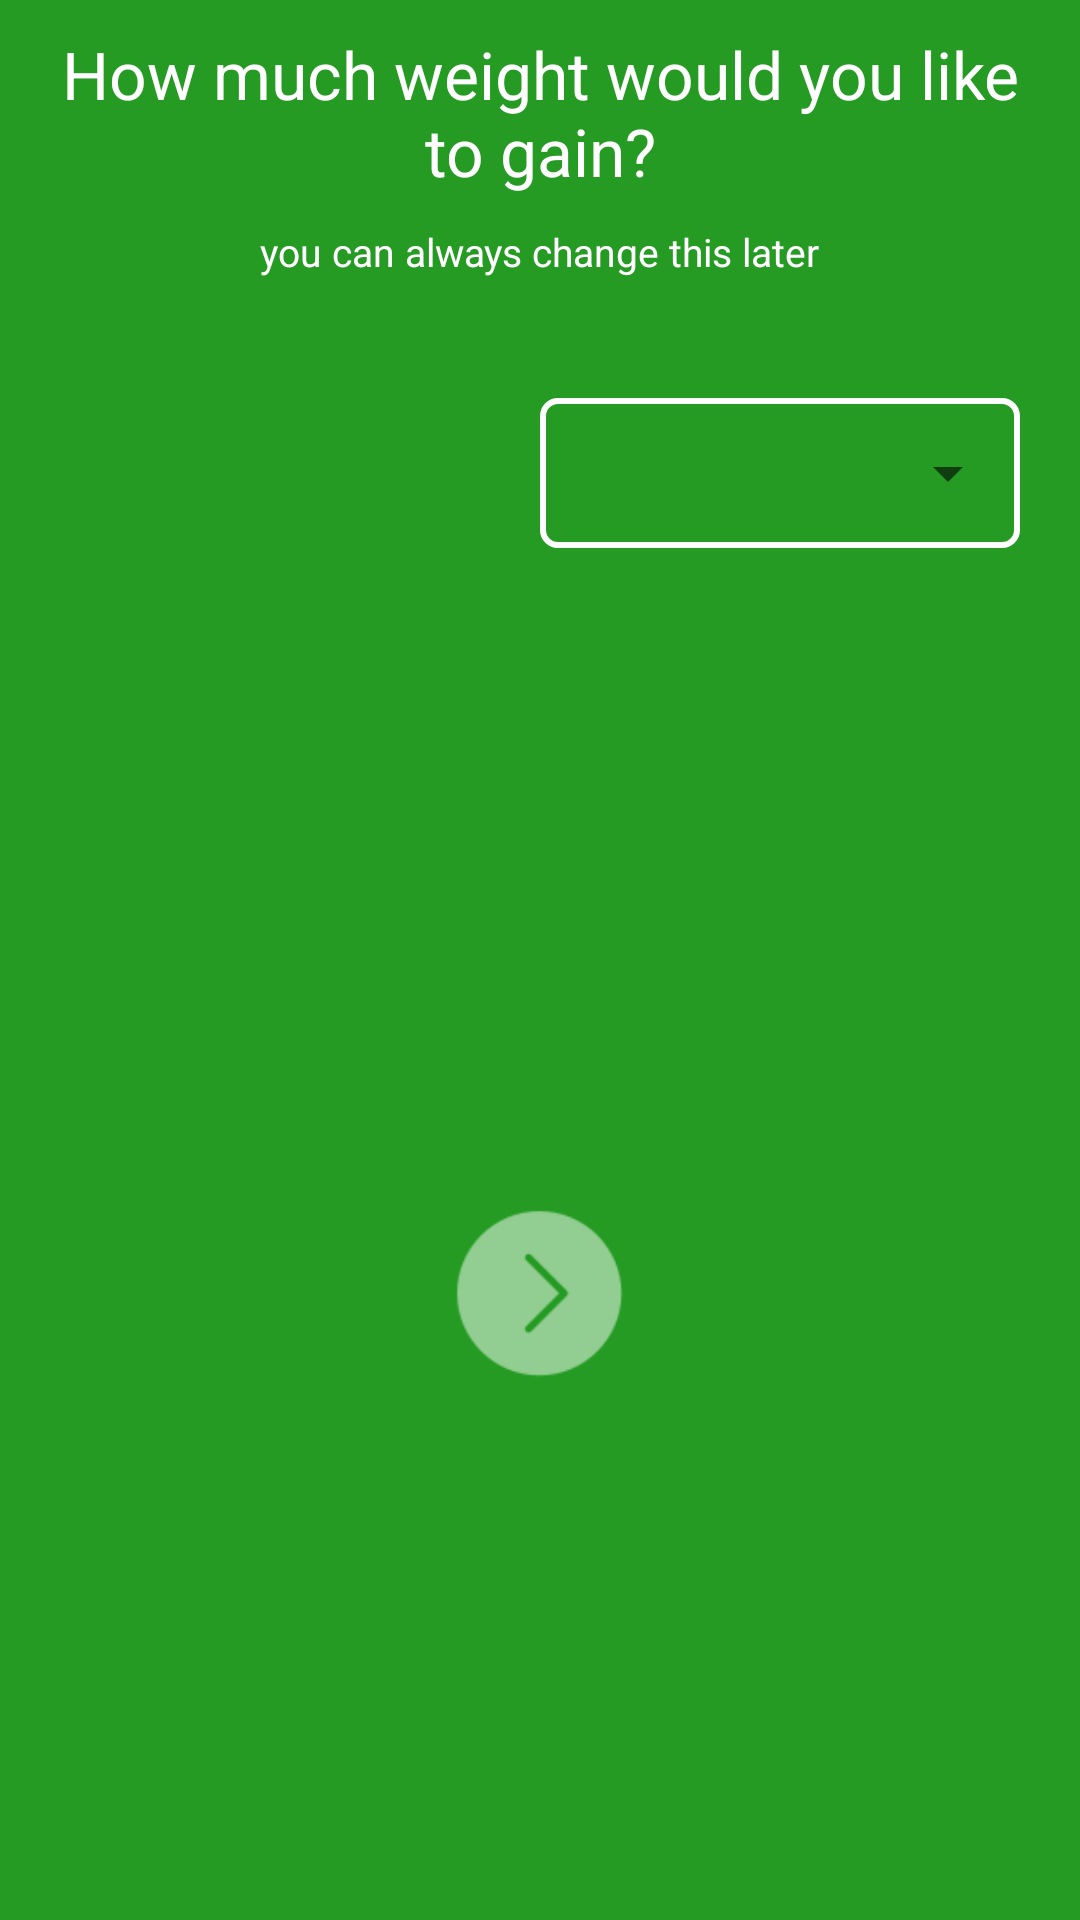

Icons on this 1080*1920 Android screen, each with its box as (x1, y1, x2, y2):
next page: (457, 1211, 622, 1376)
